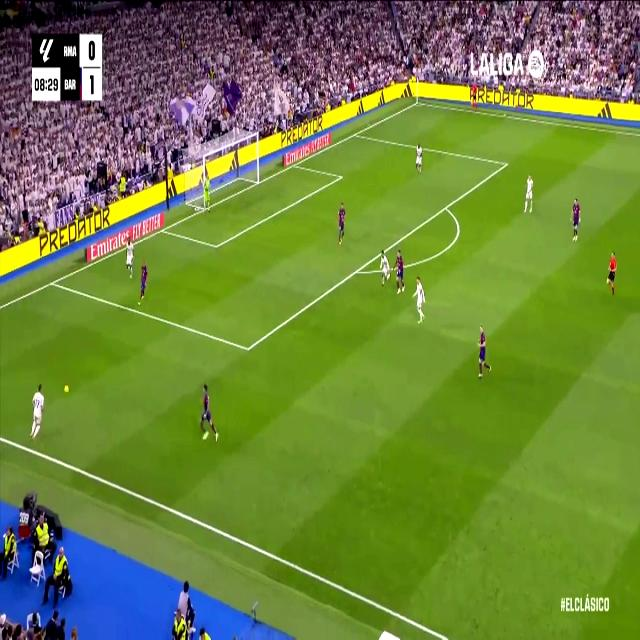bigarea_bottom_inner: (243, 336, 253, 360)
bigarea_bottom_outter: (48, 274, 58, 290)
bigarea_top_inner: (503, 157, 509, 170)
bigarea_top_outter: (351, 127, 359, 140)
bottom_arc_area_intersection: (352, 261, 362, 279)
smallarea_bottom_inner: (212, 236, 220, 255)
smallarea_top_inner: (336, 169, 344, 183)
top_arc_area_intersection: (442, 198, 450, 214)
